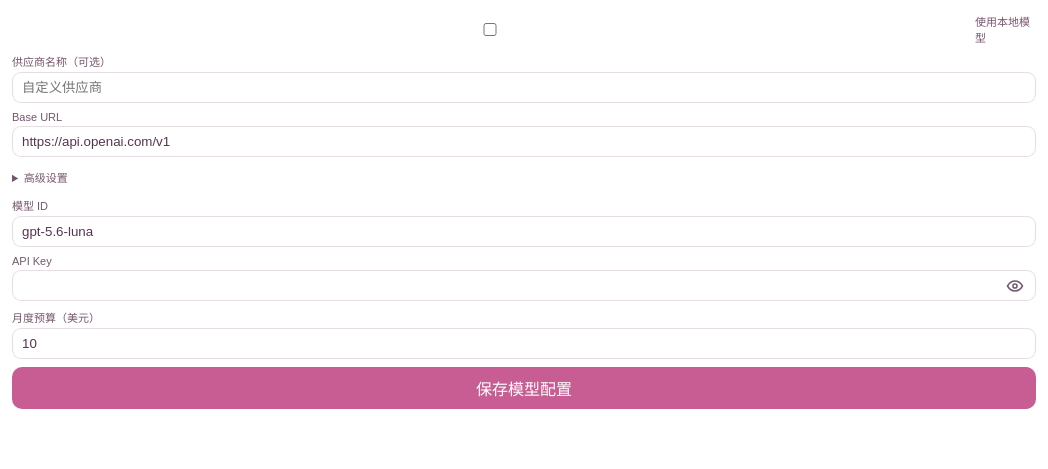
ModelSettings › shows the persistence error instead of silently failing
Type "sk-test-secret" into the password field labelled "API Key" at (524, 286), box top-left (12, 270), bottom-right (1036, 301)
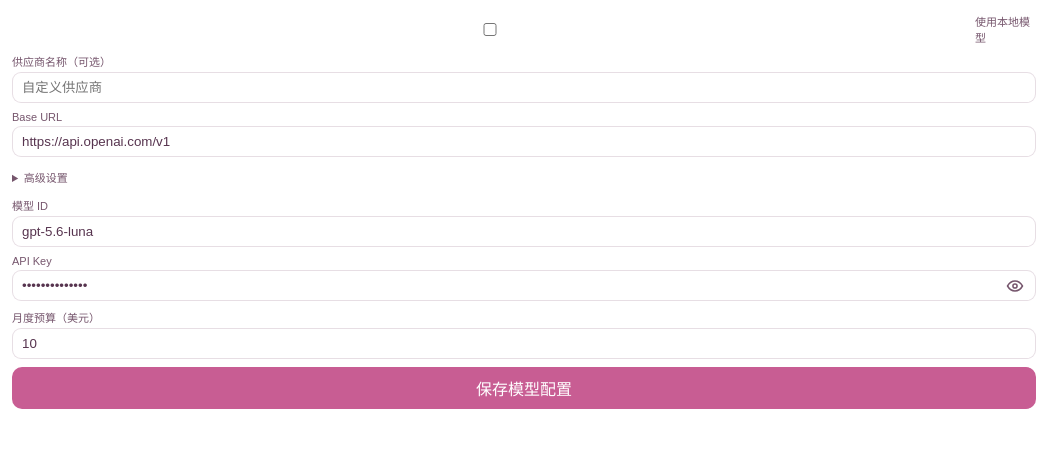
Click the button "保存模型配置" at (524, 388), box top-left (12, 367), bottom-right (1036, 409)
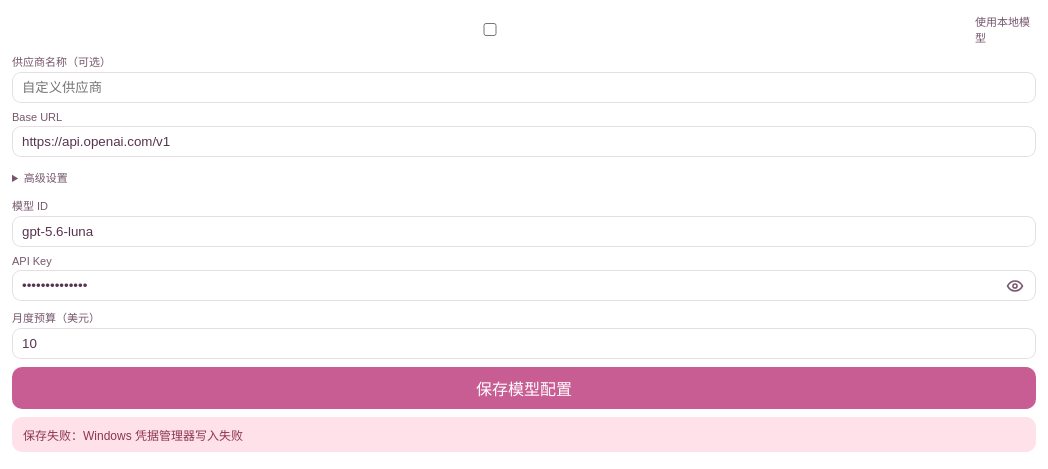
Now the message shows "Windows 凭据管理器写入失败", box top-left (83, 429), bottom-right (243, 443)
